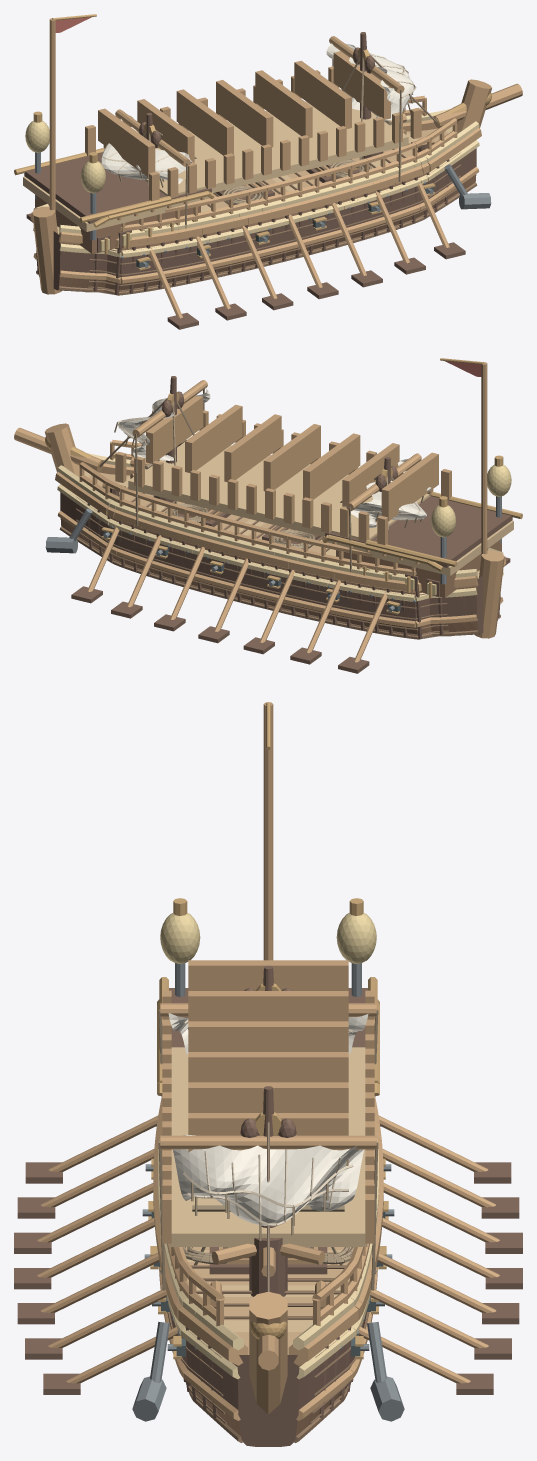
File: panokseon-v5.glb
The picture shows the model from 3 angles, top to bottom: view 1: azimuth 30°, elevation 25°; view 2: azimuth 150°, elevation 25°; view 3: azimuth 270°, elevation 25°; orthographic projection. The views are drawn at different scales.
Parts seen in each view (by area): view 1: panokseon_ornament_wood, panokseon_hull_wood, panokseon_hull_darkwood, panokseon_deck_decklight, panokseon_deck_wood, panokseon_hull_pale, panokseon_railings_wood, panokseon_deck_darkwood, panokseon_hull_seam, panokseon_oars_wood, panokseon_hull_hull, panokseon_sails_ivory (+16 smaller); view 2: panokseon_ornament_wood, panokseon_hull_wood, panokseon_hull_darkwood, panokseon_deck_decklight, panokseon_deck_wood, panokseon_hull_pale, panokseon_railings_wood, panokseon_deck_darkwood, panokseon_hull_seam, panokseon_oars_wood, panokseon_hull_hull, panokseon_oars_darkwood (+16 smaller); view 3: panokseon_ornament_wood, panokseon_oars_wood, panokseon_sails_ivory, panokseon_oars_darkwood, panokseon_hull_wood, panokseon_deck_decklight, panokseon_hull_darkwood, panokseon_deck_wood, panokseon_hull_pale, panokseon_fittings_iron, panokseon_railings_wood, panokseon_rigging_wood (+14 smaller).
Boxes of the visible parts, x1,y1,x2,y2 form: panokseon_ornament_wood: (98, 51, 390, 177); panokseon_hull_wood: (30, 79, 522, 294); panokseon_hull_darkwood: (36, 148, 476, 295); panokseon_deck_decklight: (23, 98, 408, 231); panokseon_deck_wood: (85, 66, 421, 224); panokseon_hull_pale: (33, 109, 479, 257); panokseon_railings_wood: (120, 95, 457, 231); panokseon_deck_darkwood: (24, 153, 211, 252); panokseon_hull_seam: (36, 143, 477, 295); panokseon_oars_wood: (149, 183, 449, 318); panokseon_hull_hull: (59, 164, 476, 291); panokseon_sails_ivory: (101, 43, 414, 184); panokseon_ornament_wood: (146, 395, 438, 521); panokseon_hull_wood: (14, 423, 506, 638); panokseon_hull_darkwood: (60, 492, 500, 639); panokseon_deck_decklight: (128, 442, 513, 575); panokseon_deck_wood: (115, 410, 451, 568); panokseon_hull_pale: (57, 453, 503, 601); panokseon_railings_wood: (79, 439, 416, 575); panokseon_deck_darkwood: (325, 495, 512, 596); panokseon_hull_seam: (59, 487, 500, 639); panokseon_oars_wood: (87, 527, 387, 662); panokseon_hull_hull: (60, 508, 477, 635); panokseon_oars_darkwood: (71, 557, 510, 673); panokseon_ornament_wood: (188, 960, 348, 1197); panokseon_oars_wood: (37, 1115, 499, 1383); panokseon_sails_ivory: (168, 1013, 368, 1225); panokseon_oars_darkwood: (14, 1162, 522, 1394); panokseon_hull_wood: (153, 1098, 383, 1420); panokseon_deck_decklight: (169, 1047, 367, 1246); panokseon_hull_darkwood: (169, 1312, 367, 1446); panokseon_deck_wood: (162, 990, 374, 1243); panokseon_hull_pale: (158, 1139, 378, 1379); panokseon_fittings_iron: (132, 963, 404, 1421); panokseon_railings_wood: (159, 1096, 377, 1326); panokseon_rigging_wood: (160, 1003, 376, 1149).
Size of the model in its own units: 46.83 by 25.18 by 26.64.
